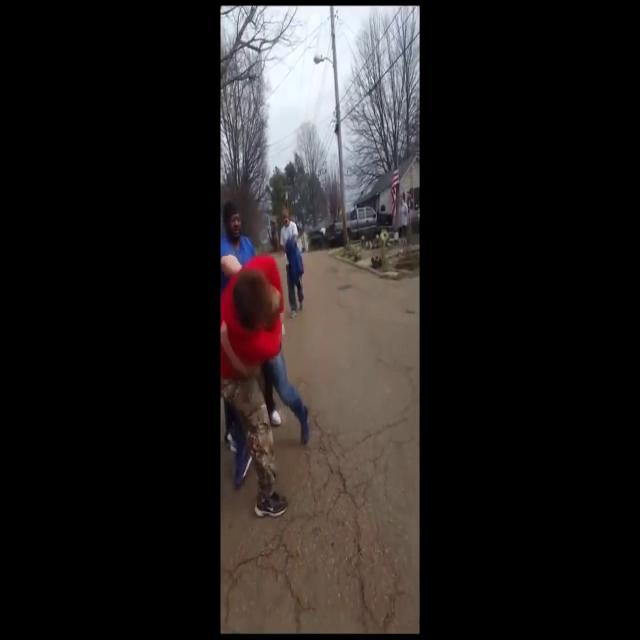non_violence: (278, 205, 305, 313)
violence: (223, 250, 284, 442)
